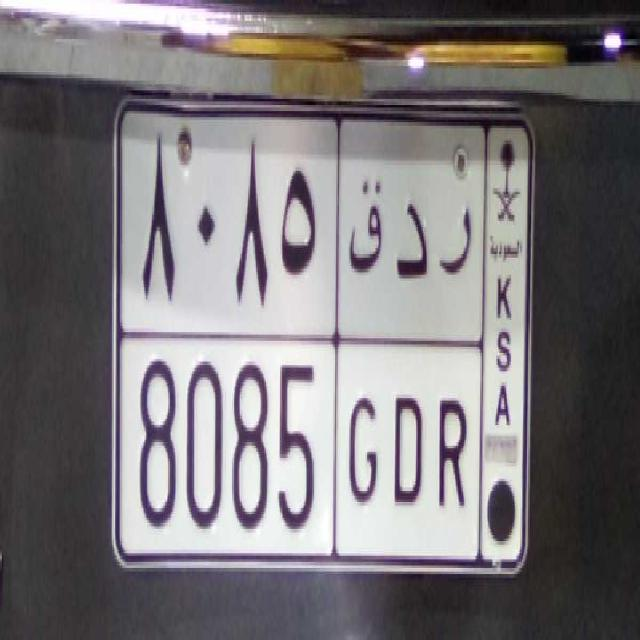license_plate: (120, 330, 478, 558)
